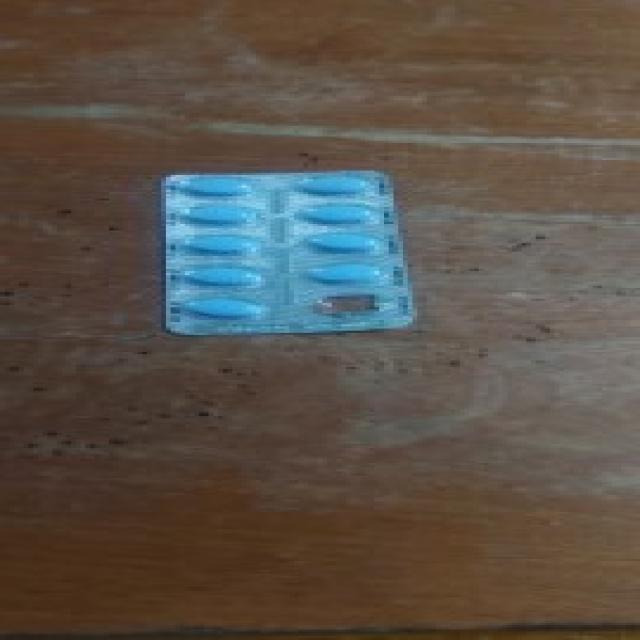Cacat: (164, 168, 420, 337)
Kemasan: (291, 287, 398, 324)
